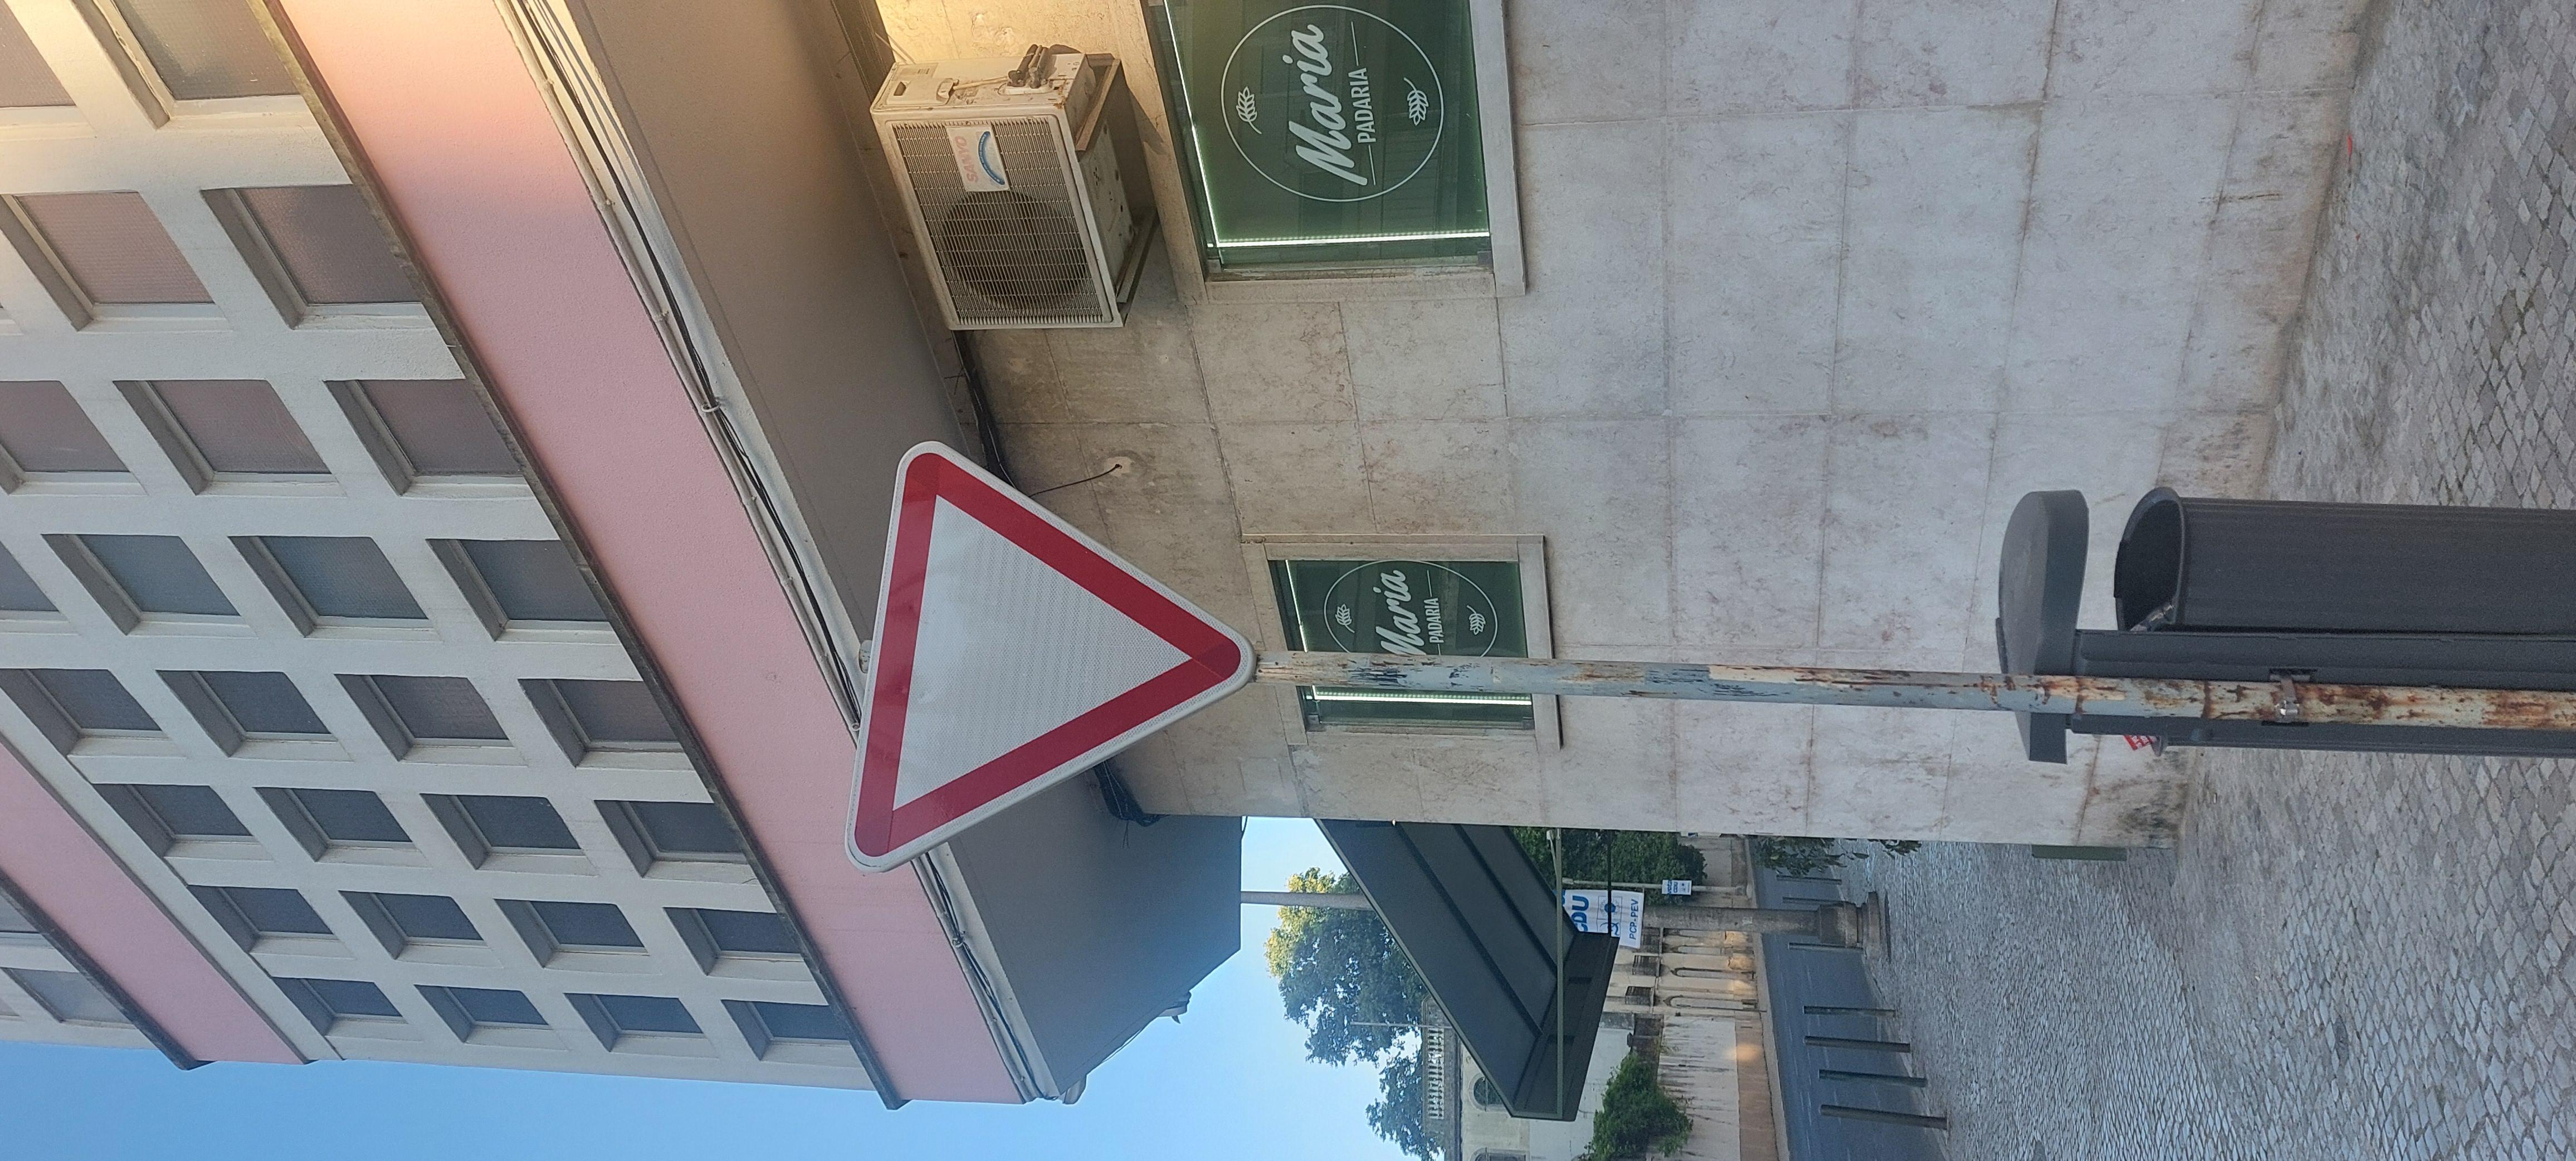cedencia de passagem: (406, 317, 1654, 571)
